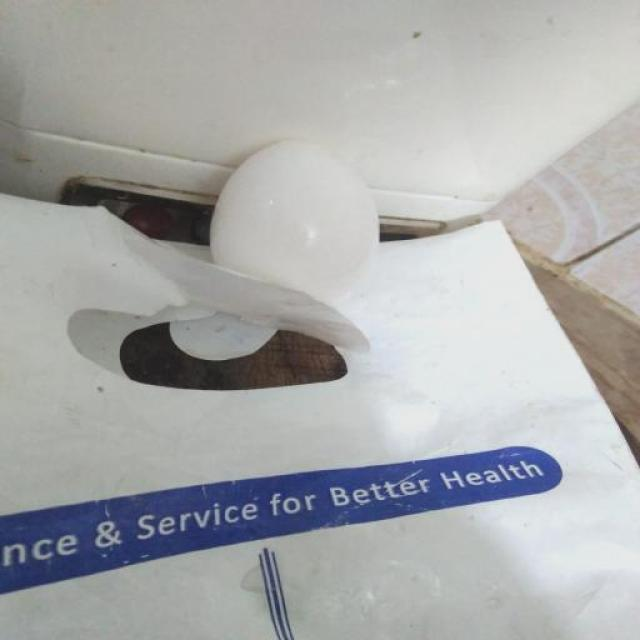telur: (189, 132, 386, 318)
